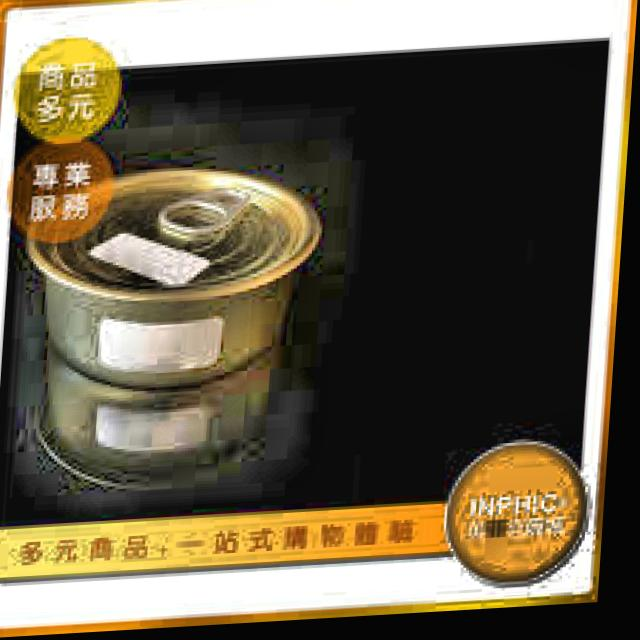can: (21, 160, 336, 402)
